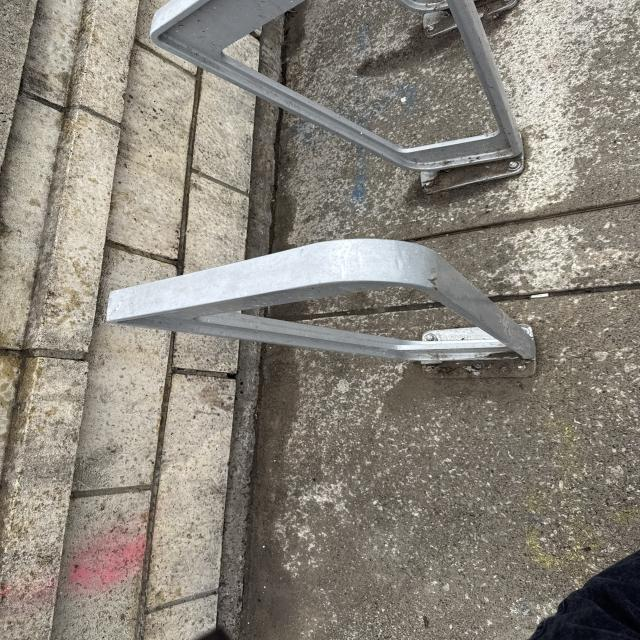Bicycle Rack: (158, 0, 536, 188), (102, 237, 544, 381)
